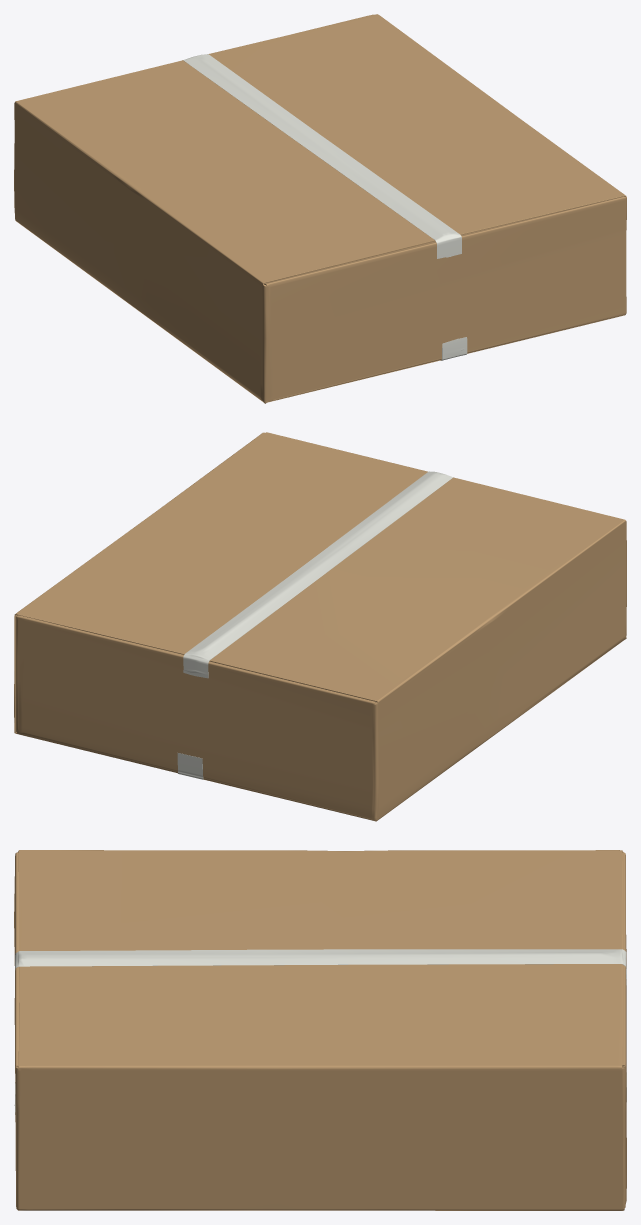
File: box_flat_white_b16.glb
The picture shows the model from 3 angles, top to bottom: view 1: azimuth 30°, elevation 25°; view 2: azimuth 150°, elevation 25°; view 3: azimuth 270°, elevation 25°; orthographic projection. The views are drawn at different scales.
Bounding box in the file's own units: 0.5095 × 0.1656 × 0.6103.
